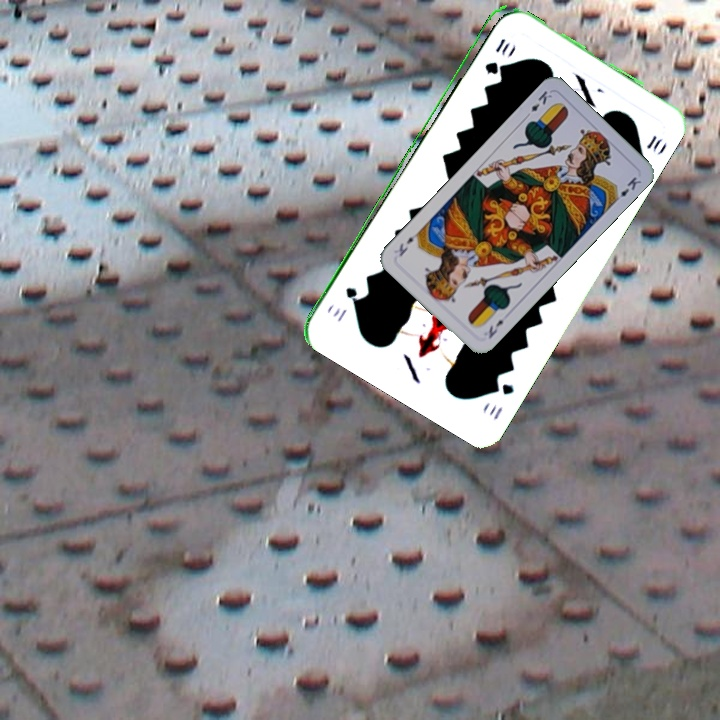EK: (521, 86, 555, 121), (484, 315, 506, 341)
G10: (485, 377, 516, 422), (480, 34, 508, 77)
